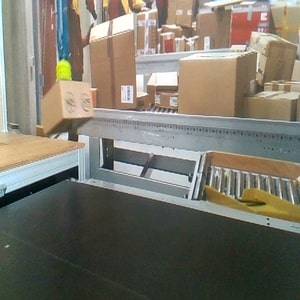box: (40, 80, 95, 138)
